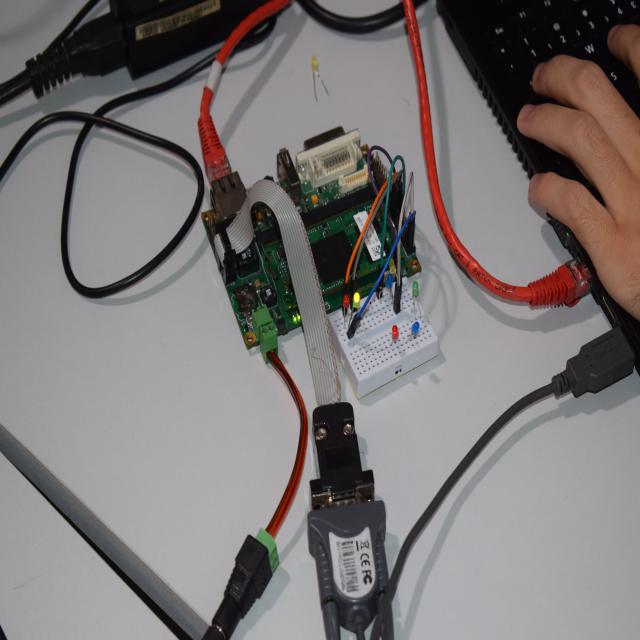som: (266, 188, 395, 324)
